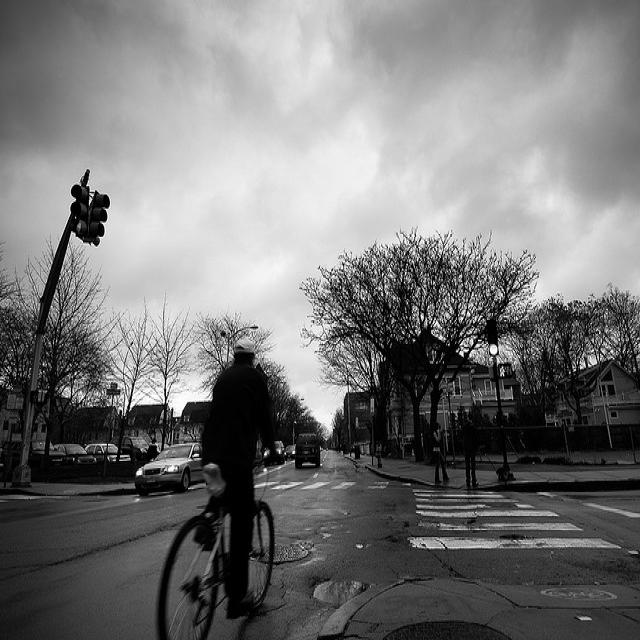Vehicle: (134, 444, 203, 496), (28, 440, 66, 476), (52, 442, 98, 463), (295, 431, 321, 468), (86, 442, 132, 462), (120, 436, 149, 467), (28, 440, 66, 462), (264, 449, 283, 466), (283, 446, 295, 459)
